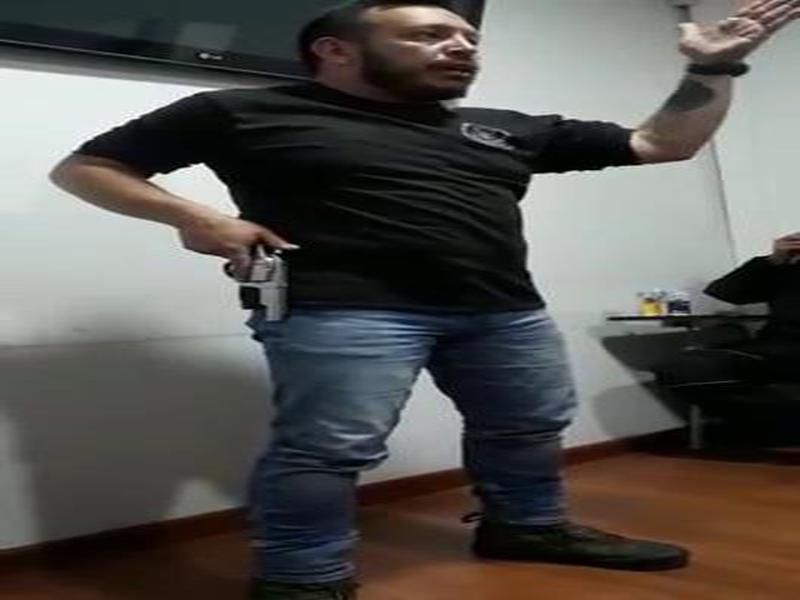Revolver: (229, 216, 310, 336)
